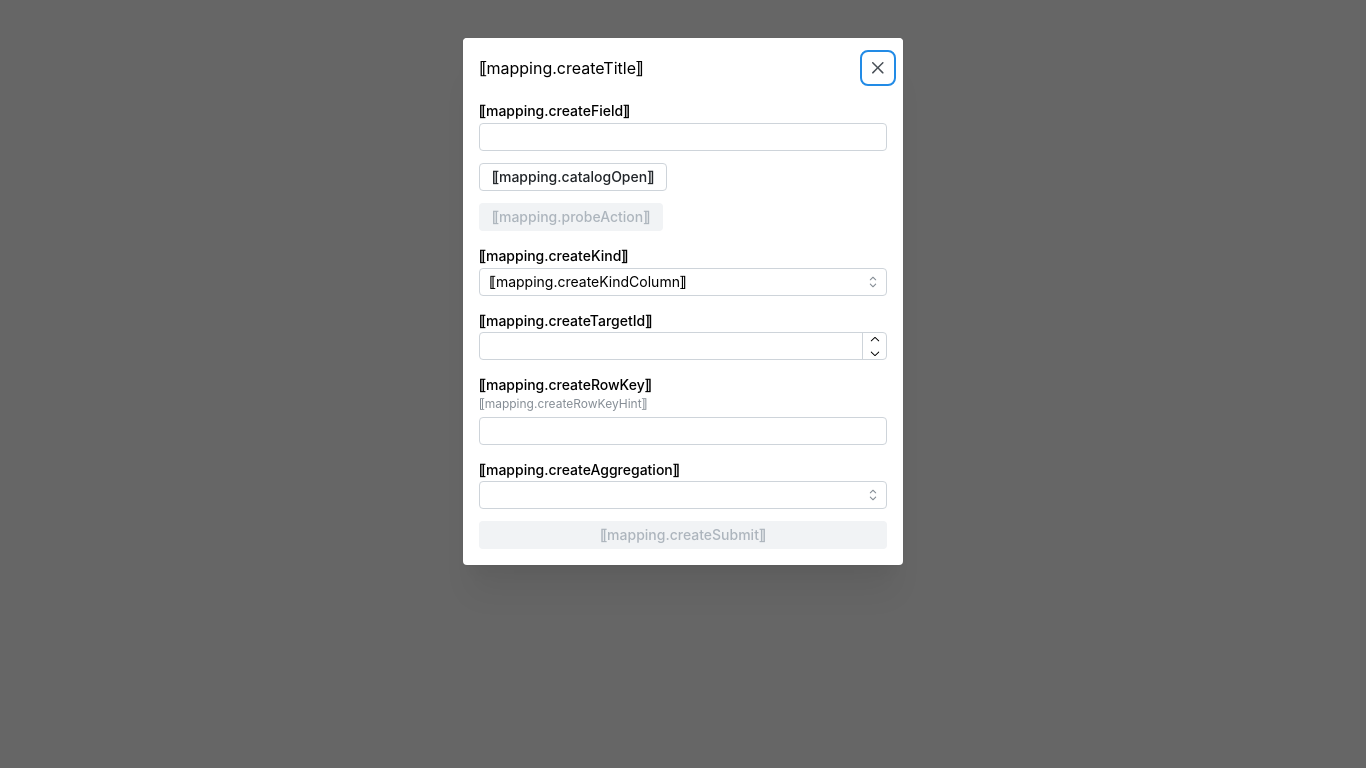
Test: Каталог PI AF у формі мапінгу (ФВ-13.13) › вибір атрибута підставляє шлях у форму і закриває каталог
Click the button "⟦mapping.catalogOpen⟧".
click(573, 177)  # box [479,163,667,191]
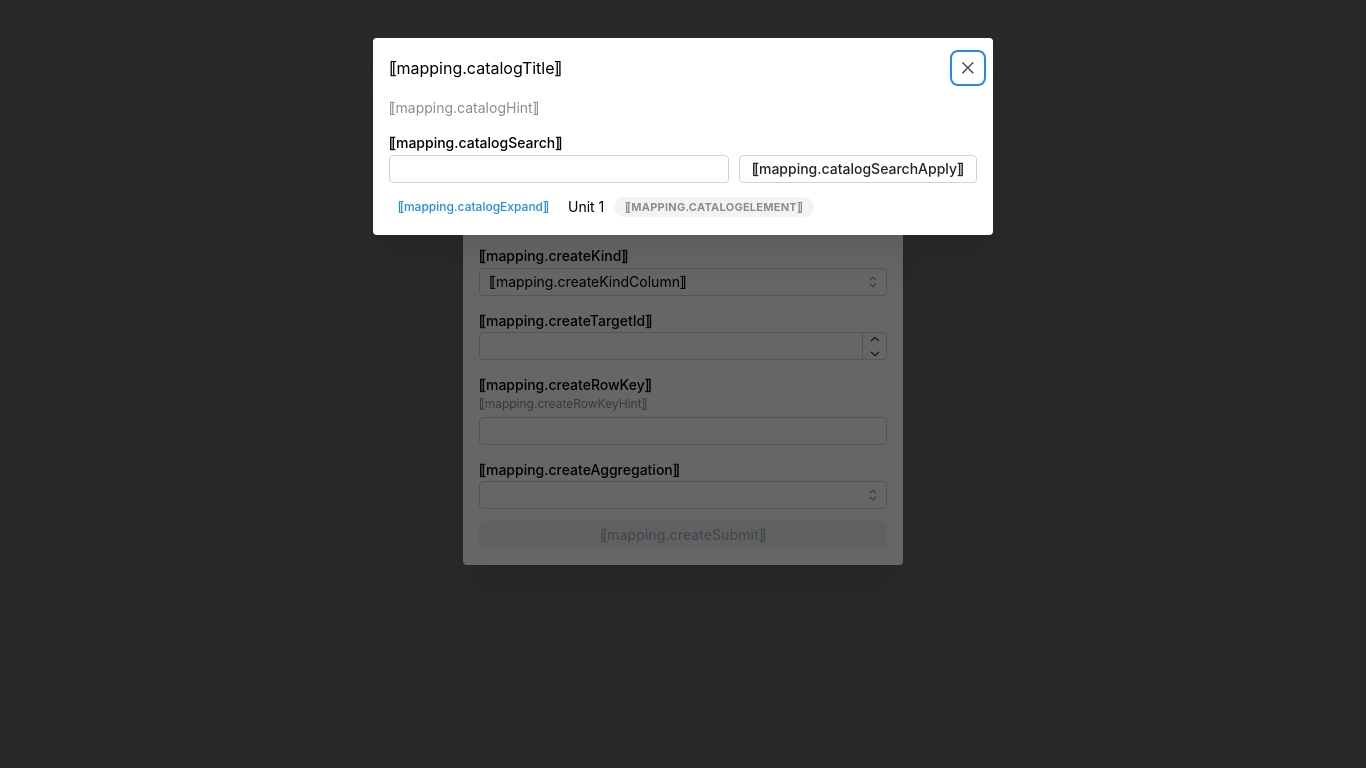
Result: the text "Unit 1" is shown at [568,197,604,218]
Click the button "⟦mapping.catalogExpand⟧".
click(474, 208)  # box [389,196,558,220]
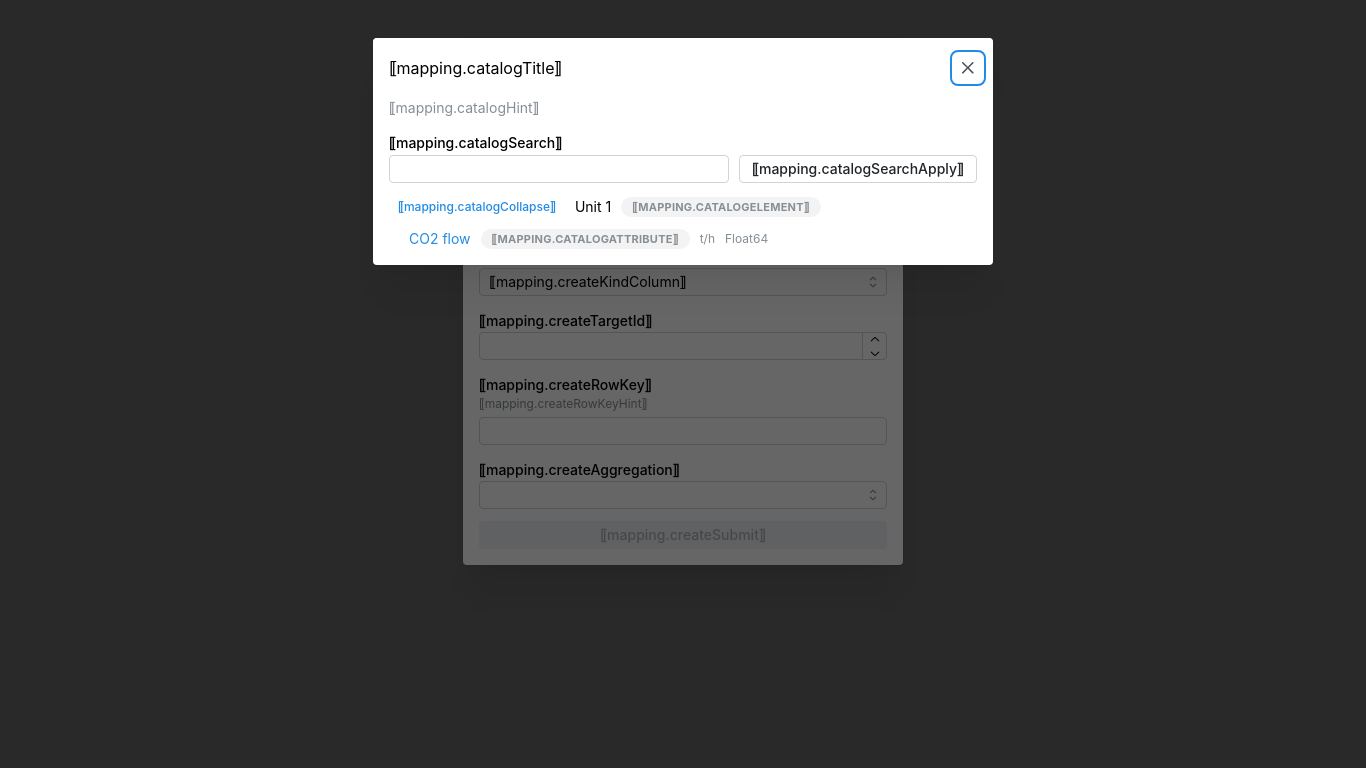
Click the button "CO2 flow".
click(440, 240)  # box [409,230,471,250]
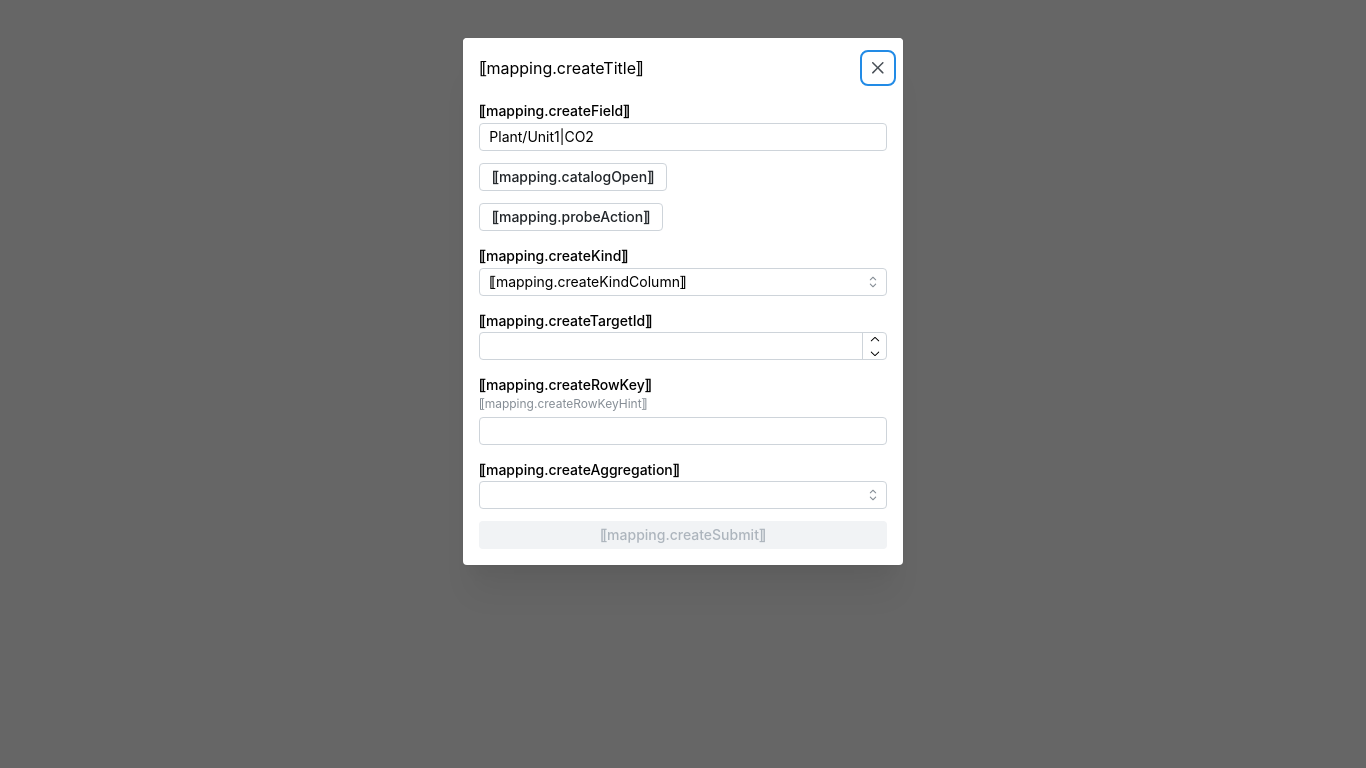
Result: the field labelled "⟦mapping.createField⟧" holds "Plant/Unit1|CO2" at [479,123,887,151]
Result: the label labelled "⟦mapping.catalogSearch⟧" is gone
